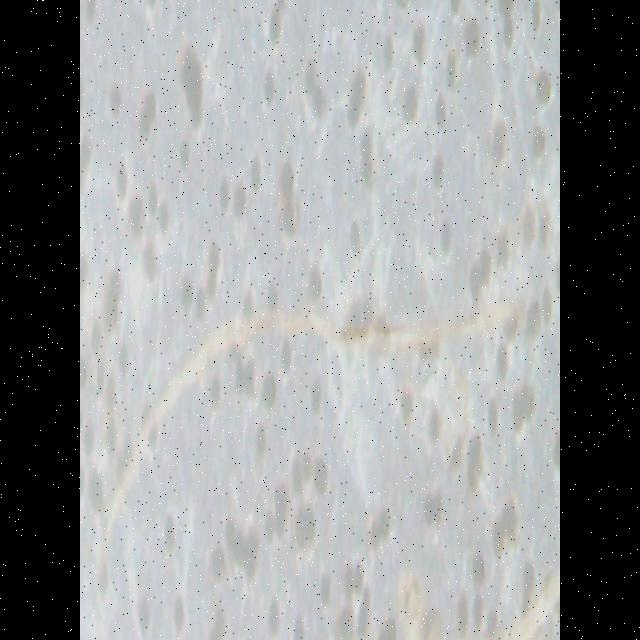Fibre: (100, 299, 522, 569)
